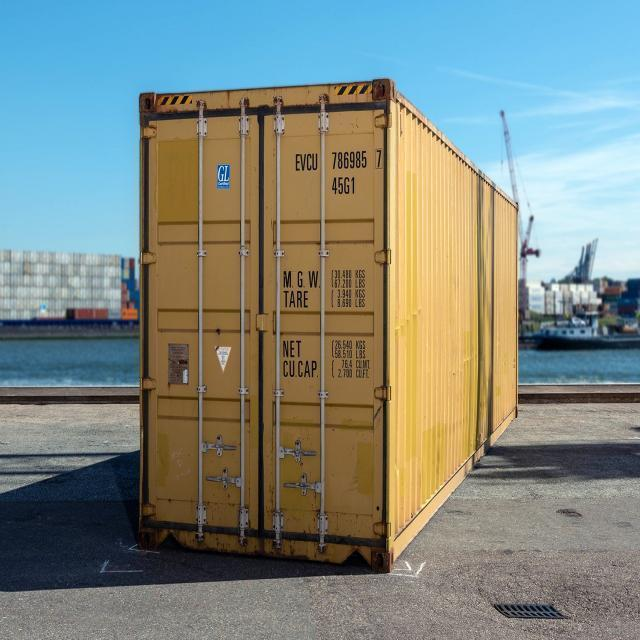ISO: (330, 174, 360, 196)
container_number: (294, 153, 392, 173)
